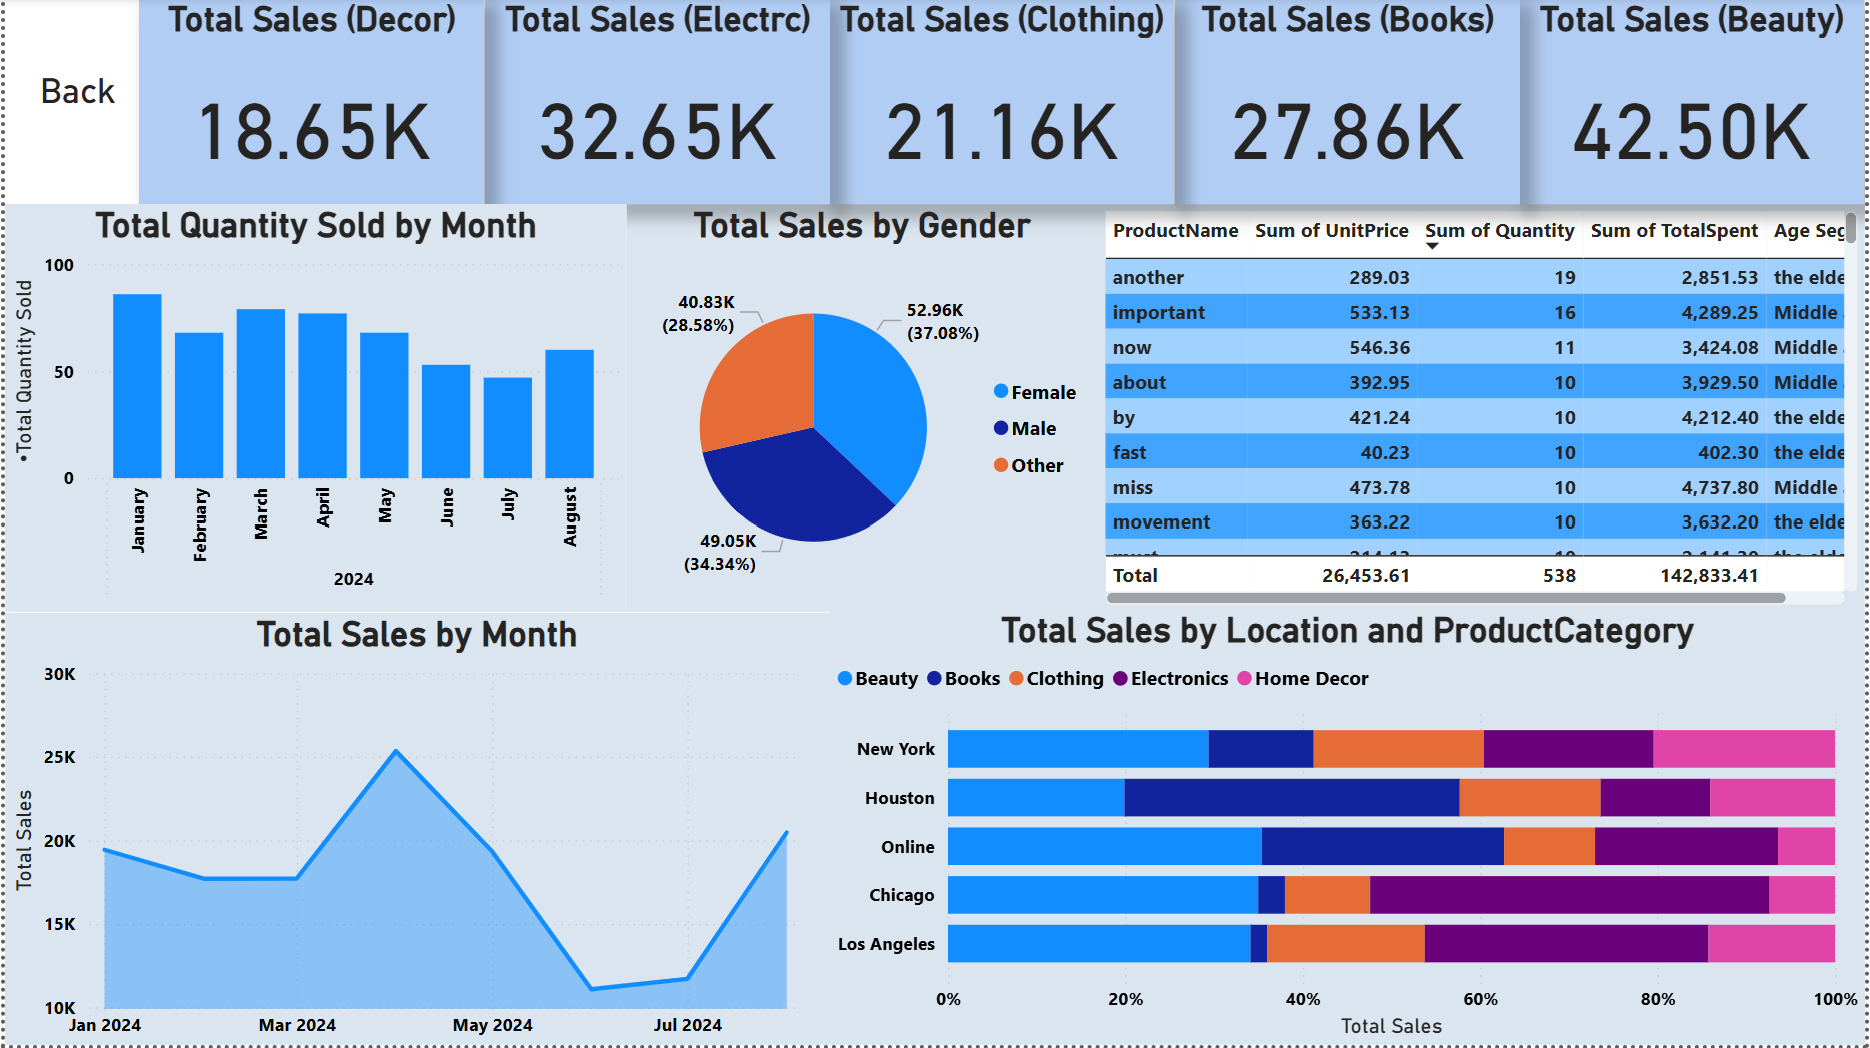

The page's visual inventory and layout, read from the dashboard file:
{"tool":"powerbi","page":{"name":"Sales Analysis","canvas":[1280,720],"ordinal":3},"visuals":[{"type":"actionButton","title":"Back","box":[0,50,100,40.6],"z":0},{"type":"lineChart","title":"Total Sales by  Month","fields":{"Category":["Table1.PurchaseDate.Variation.Date Hierarchy.Year","Table1.PurchaseDate.Variation.Date Hierarchy.Month"],"Y":["Measures list.Total Sales"]},"box":[0,422,567.3,301.6],"z":1000},{"type":"pieChart","fields":{"Category":["Table1.Gender"],"Y":["Measures list.Total Sales"]},"box":[428.2,142.2,323.5,279.8],"z":2000},{"type":"tableEx","fields":{"Values":["Table1.ProductName","Sum(Table1.UnitPrice)","Sum(Table1.Quantity)","Sum(Table1.TotalSpent)","Table1.Age Segment"]},"box":[751.7,142.2,528.3,279.8],"z":3000},{"type":"card","title":"Total Sales (Beauty)","fields":{"Values":["Measures list.Total Sales (Beauty)"]},"box":[1042.4,0,237.6,142.2],"z":4000},{"type":"card","title":"Total Sales (Books)","fields":{"Values":["Measures list.Total Sales (Books)"]},"box":[804.9,0,237.6,142.2],"z":5000},{"type":"card","title":"Total Sales (Clothing)","fields":{"Values":["Measures list.Total Sales (Clothing)"]},"box":[567.3,0,237.6,142.2],"z":6000},{"type":"card","title":"Total Sales (Electrc)","fields":{"Values":["Measures list.Total Sales (Electronics)"]},"box":[329.8,0,237.6,142.2],"z":7000},{"type":"card","title":"Total Sales (Decor)","fields":{"Values":["Measures list.Total Sales (Home Decor)"]},"box":[92.2,0,237.6,142.2],"z":8000},{"type":"hundredPercentStackedBarChart","fields":{"Category":["Table1.Location"],"Y":["Measures list.Total Sales"],"Series":["Table1.ProductCategory"]},"box":[567.3,420.4,714.2,300.1],"z":9000},{"type":"clusteredColumnChart","title":"Total Quantity Sold by  Month","fields":{"Y":["Measures list.•Total Quantity Sold"],"Category":["Table1.PurchaseDate.Variation.Date Hierarchy.Year","Table1.PurchaseDate.Variation.Date Hierarchy.Month"]},"box":[0,142.2,428.2,279.8],"z":10000}]}

Visuals, with their boxes in screenshot pixels (x1, y1, x2, y2), scaled from the page's 1280x720 canvas onto the 1870x1048 screenshot:
"Back" actionButton: (x1=0, y1=73, x2=146, y2=132)
"Total Sales by  Month" lineChart: (x1=0, y1=614, x2=829, y2=1047)
pieChart - Table1.Gender x Measures list.Total Sales: (x1=626, y1=207, x2=1098, y2=614)
tableEx - Table1.ProductName x Sum(Table1.UnitPrice): (x1=1098, y1=207, x2=1869, y2=614)
"Total Sales (Beauty)" card: (x1=1523, y1=0, x2=1869, y2=207)
"Total Sales (Books)" card: (x1=1176, y1=0, x2=1523, y2=207)
"Total Sales (Clothing)" card: (x1=829, y1=0, x2=1176, y2=207)
"Total Sales (Electrc)" card: (x1=482, y1=0, x2=829, y2=207)
"Total Sales (Decor)" card: (x1=135, y1=0, x2=482, y2=207)
hundredPercentStackedBarChart - Table1.Location x Measures list.Total Sales: (x1=829, y1=612, x2=1869, y2=1047)
"Total Quantity Sold by  Month" clusteredColumnChart: (x1=0, y1=207, x2=626, y2=614)
